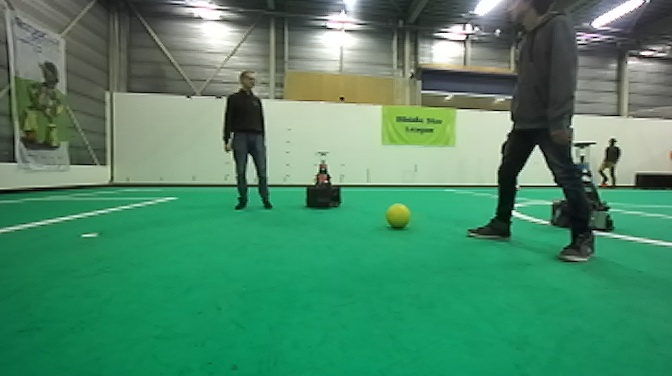ball: (382, 200, 411, 233), (600, 181, 609, 190)
human: (460, 1, 595, 267), (220, 71, 274, 213), (596, 133, 622, 190)
robot: (549, 139, 616, 234), (305, 148, 343, 212)
